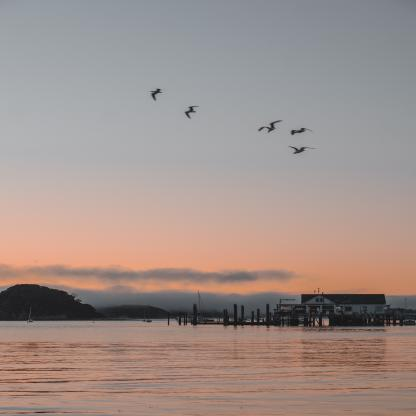bird: (256, 118, 285, 133), (290, 145, 318, 155), (148, 88, 164, 101), (290, 127, 312, 136), (185, 106, 199, 119)
